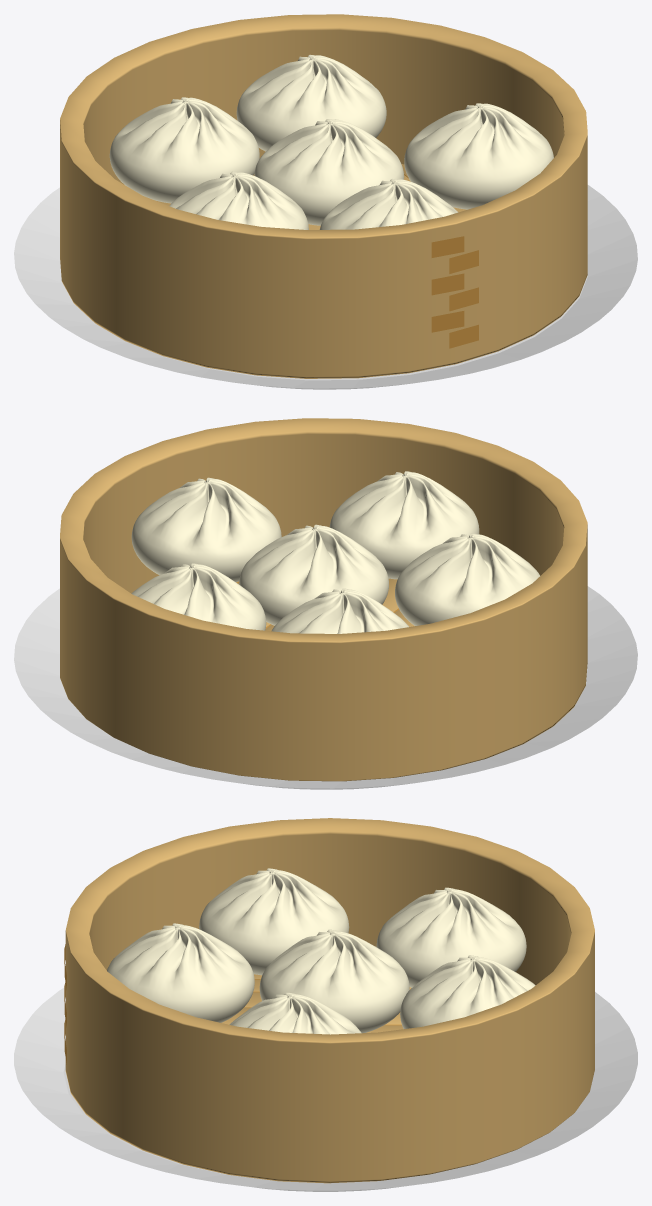
File: xlb_plated.fbx
3 views of the same model, one above another, from view 1: azimuth 30°, elevation 25°; view 2: azimuth 150°, elevation 25°; view 3: azimuth 270°, elevation 25° (orthographic).
Visible parts, largest first — view 1: basket, baos, plate; view 2: basket, baos, plate; view 3: basket, baos, plate.
Part boxes in pixels (box(x1,y1,x2,y2)): basket: box(60, 14, 587, 378); baos: box(109, 54, 553, 229); plate: box(14, 185, 637, 389); basket: box(60, 418, 587, 781); baos: box(131, 471, 539, 633); plate: box(14, 586, 637, 789); basket: box(64, 818, 594, 1183); baos: box(107, 868, 535, 1034); plate: box(14, 988, 637, 1191).
Size of the model in its own units: 56.9 by 15.82 by 56.9.
